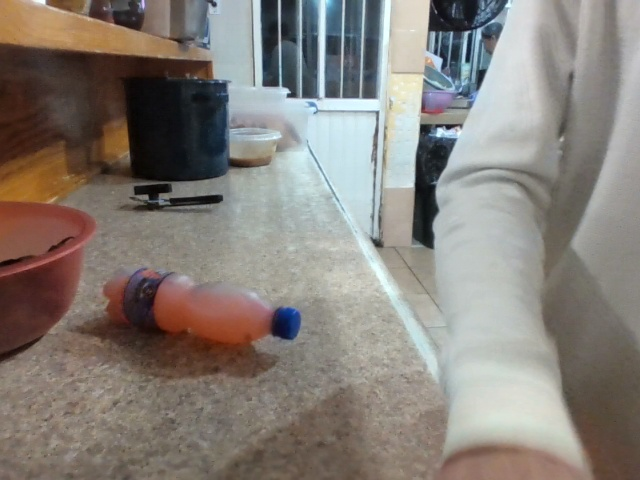botella: (64, 244, 393, 381)
